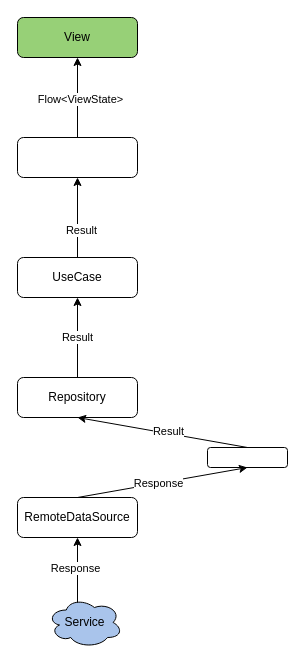
Some shapes in this 305 by 665 pixel diagram are drawn without their labels. Here are the shapes that lost their labels. From the top down, the centre of each, then its label:
point (77, 157): ViewModel
point (247, 457): Mapper
